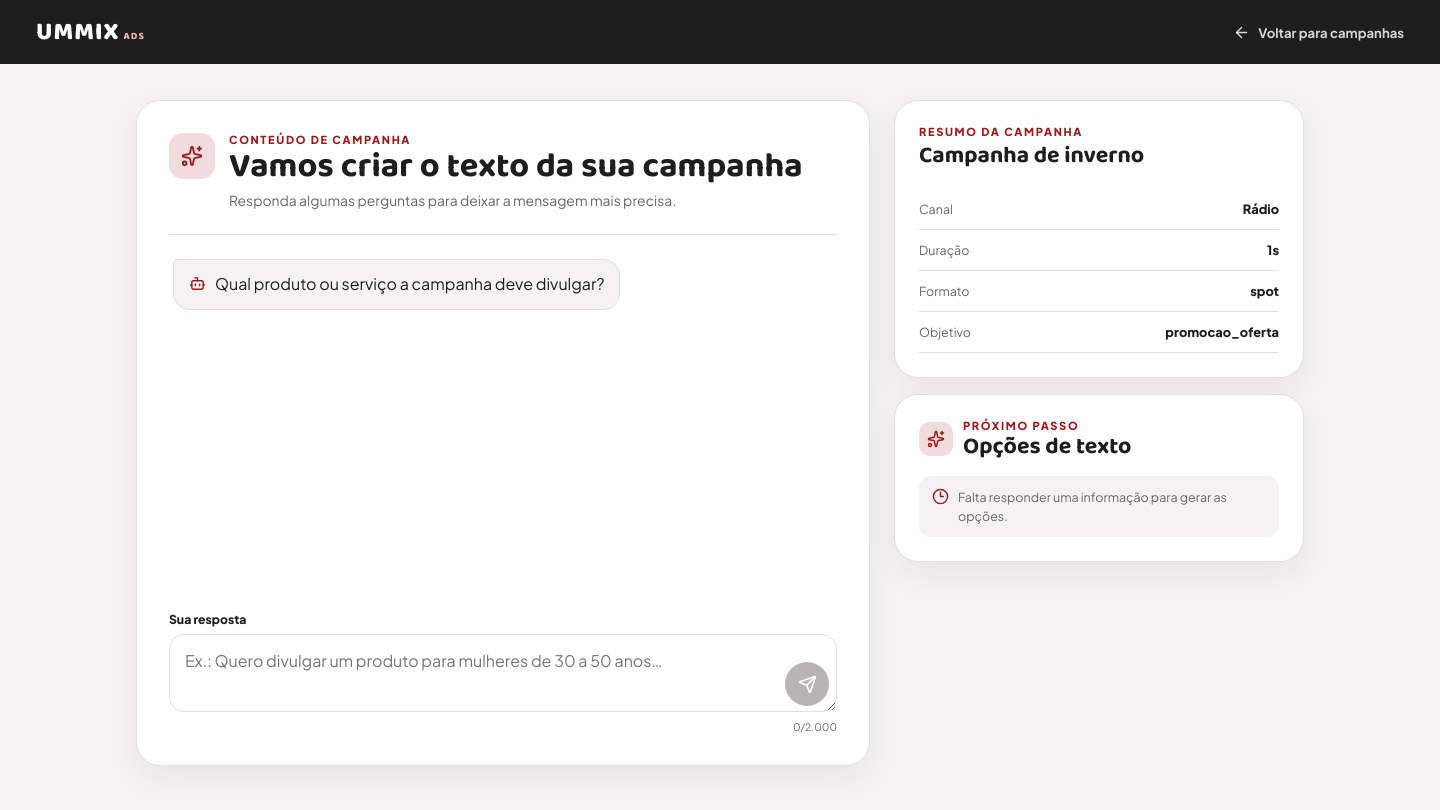
Test: CampaignContentPage › retoma a sessão, envia a resposta e libera a geração quando o briefing termina
This screenshot has width=1440, height=810.
Expected: the text "Qual produto ou serviço a campanha deve divulgar?" is shown, [215, 272, 604, 297]
Replace the text in the text box labelled "Sua resposta" with "Produto teste" at x=503, y=673, box [169, 634, 837, 712]
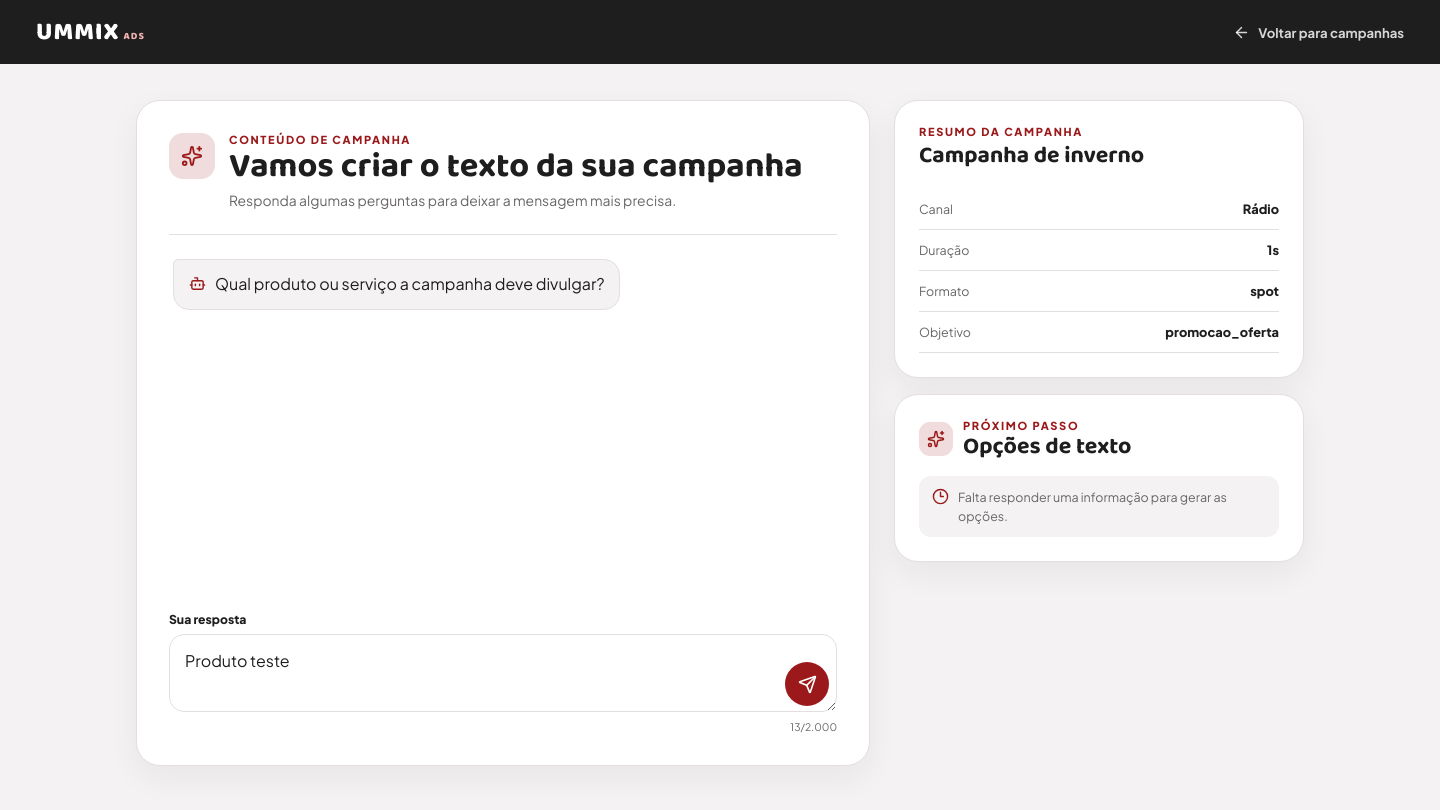
Click the button named "Enviar resposta".
click(807, 684)  # box [785, 662, 829, 706]
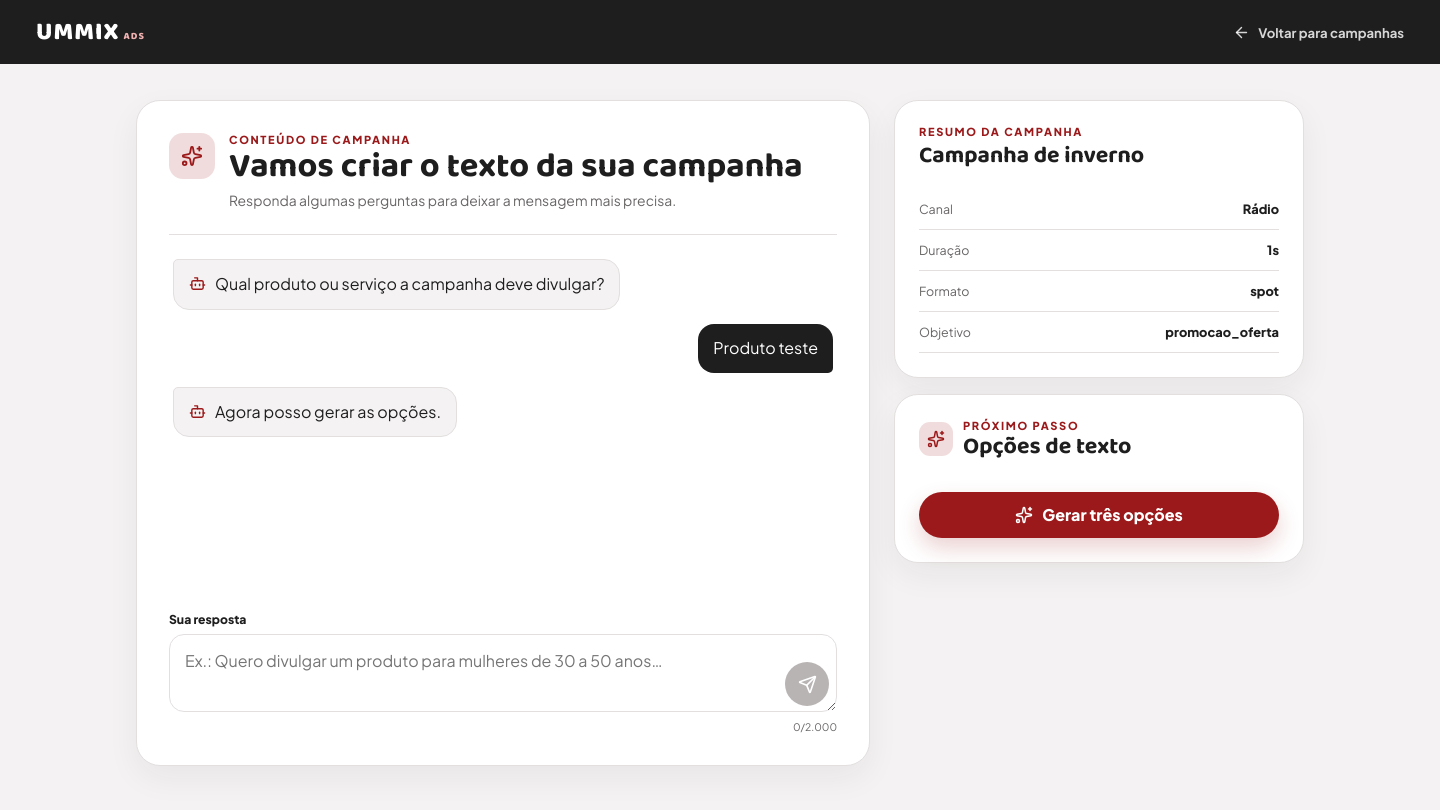
Now the button "Gerar três opções" is shown, box [919, 492, 1279, 538]
